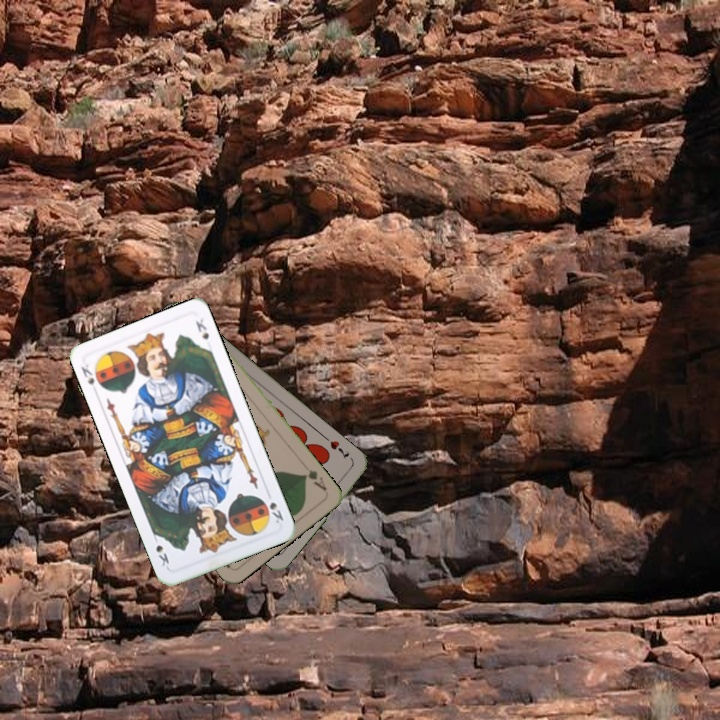GA: (299, 460, 330, 494)
H7: (326, 437, 352, 462)
SK: (259, 494, 286, 527), (77, 360, 97, 388)
